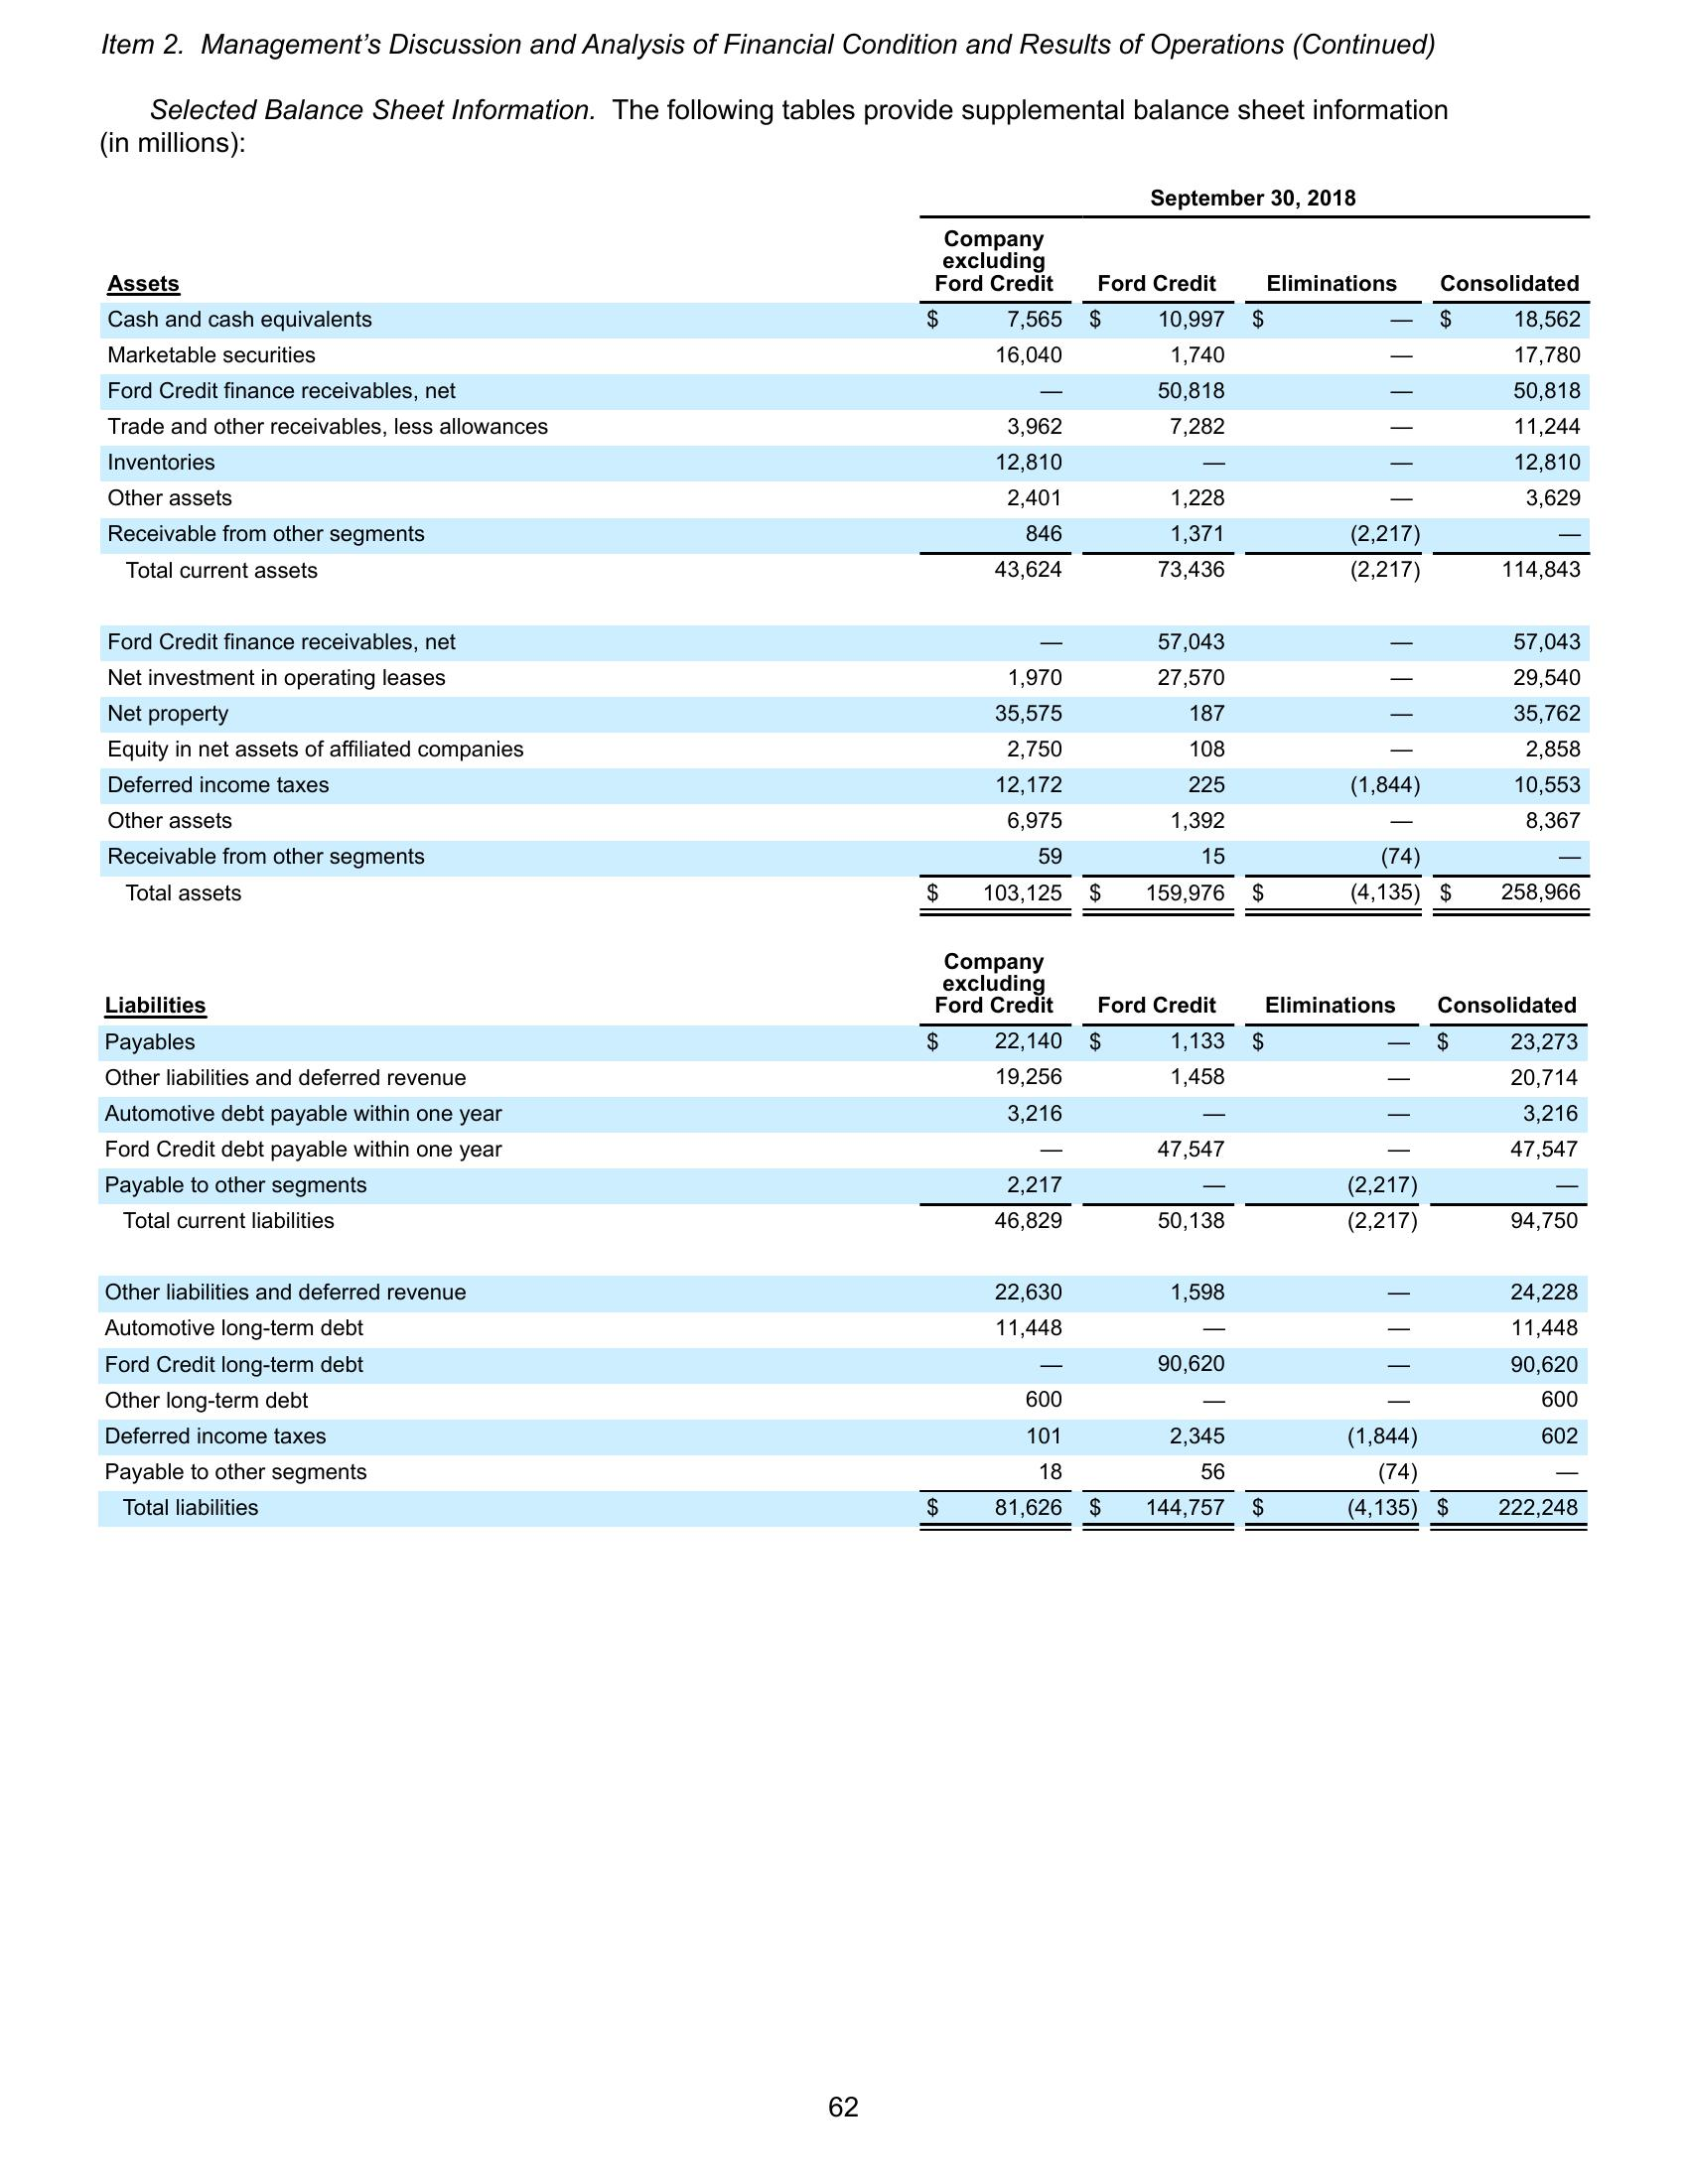table: (94, 181, 1596, 920), (94, 948, 1599, 1537)
